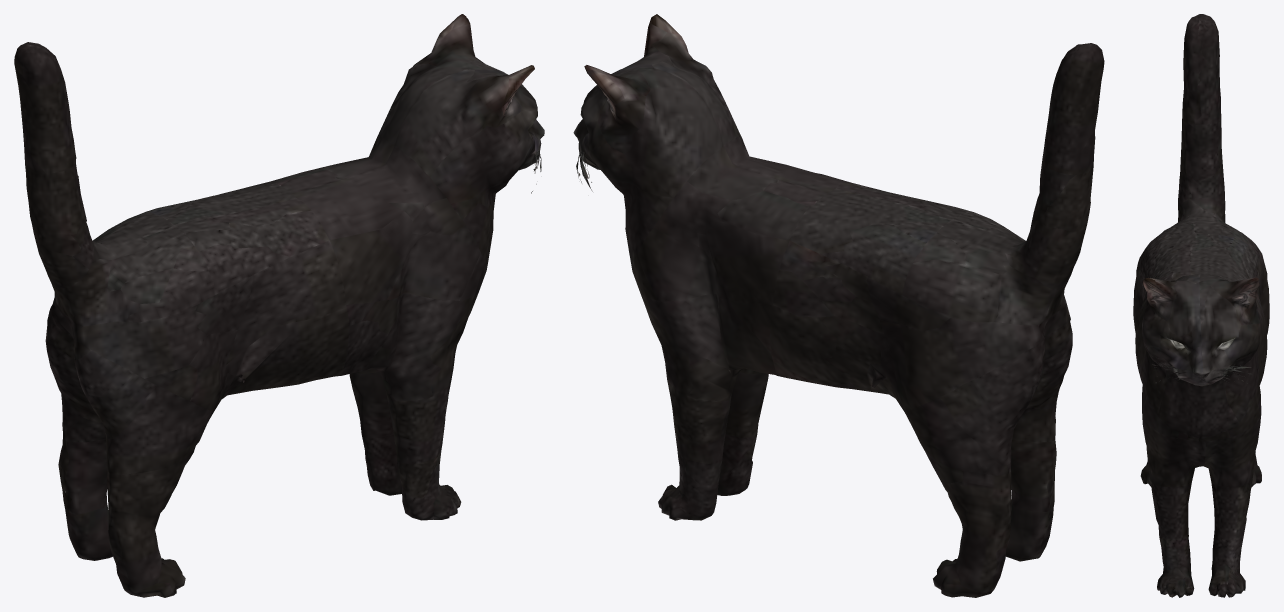
Rendered from POEEDGAR-lo.glb.
3 renders of one model, left to right at view 1: azimuth 30°, elevation 25°; view 2: azimuth 150°, elevation 25°; view 3: azimuth 270°, elevation 25°, orthographic. The views are drawn at different scales.
Visible parts, largest first — view 1: tripo_node_1932f413-8dda-47db-b509-99223fe46e92; view 2: tripo_node_1932f413-8dda-47db-b509-99223fe46e92; view 3: tripo_node_1932f413-8dda-47db-b509-99223fe46e92.
Boxes of the visible parts, box(x1,y1,x2,y2) form: tripo_node_1932f413-8dda-47db-b509-99223fe46e92: box(14, 14, 544, 597); tripo_node_1932f413-8dda-47db-b509-99223fe46e92: box(573, 14, 1104, 597); tripo_node_1932f413-8dda-47db-b509-99223fe46e92: box(1133, 14, 1269, 597).
Bounding box in the file's own units: 0.9959 × 0.9988 × 0.2874.
Materials: 1 (1 with a texture image).
